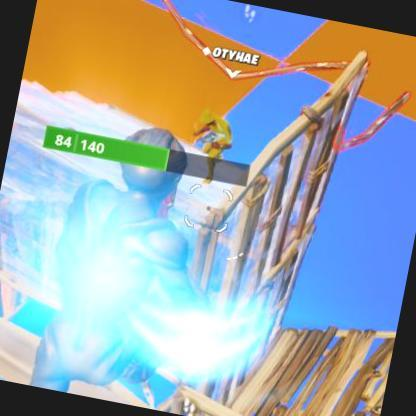person: (186, 100, 242, 184)
